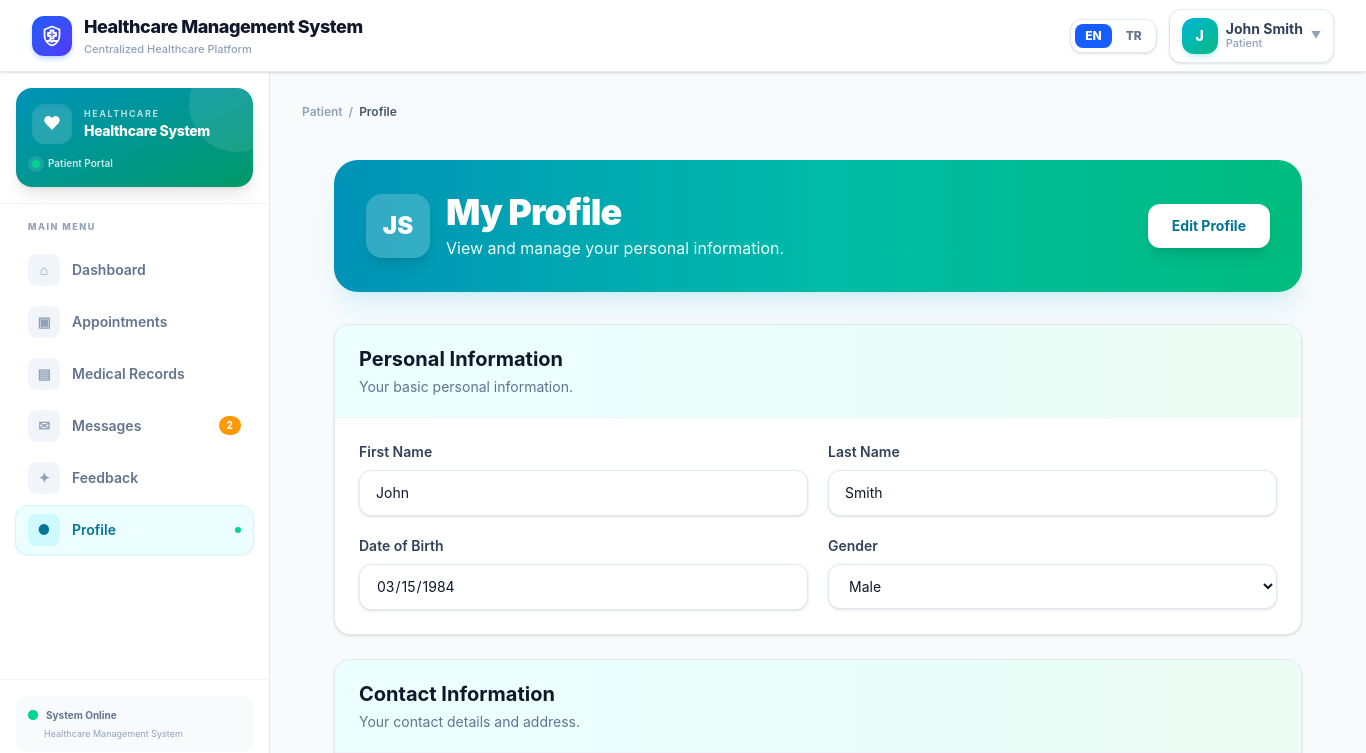
W114 loading, empty, success and error states › shows success feedback after saving
The width and height of the screenshot is (1366, 753).
Click the button "Edit Profile" at (1209,226), box [1148,204,1270,248]
(page scrolled)
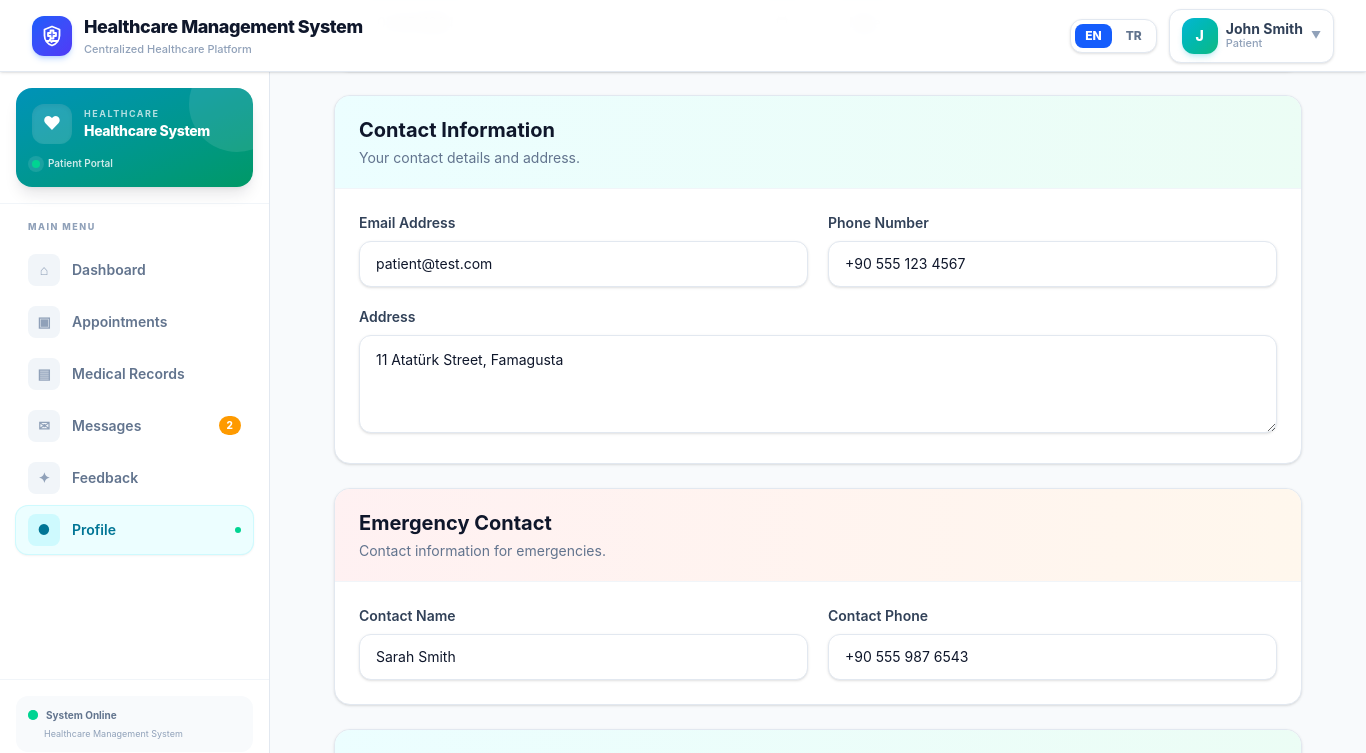
Replace the text in the text box labelled "Address" with "5 Harbour Road, Kyrenia" at (818,384), box [359,335,1277,433]
(page scrolled)
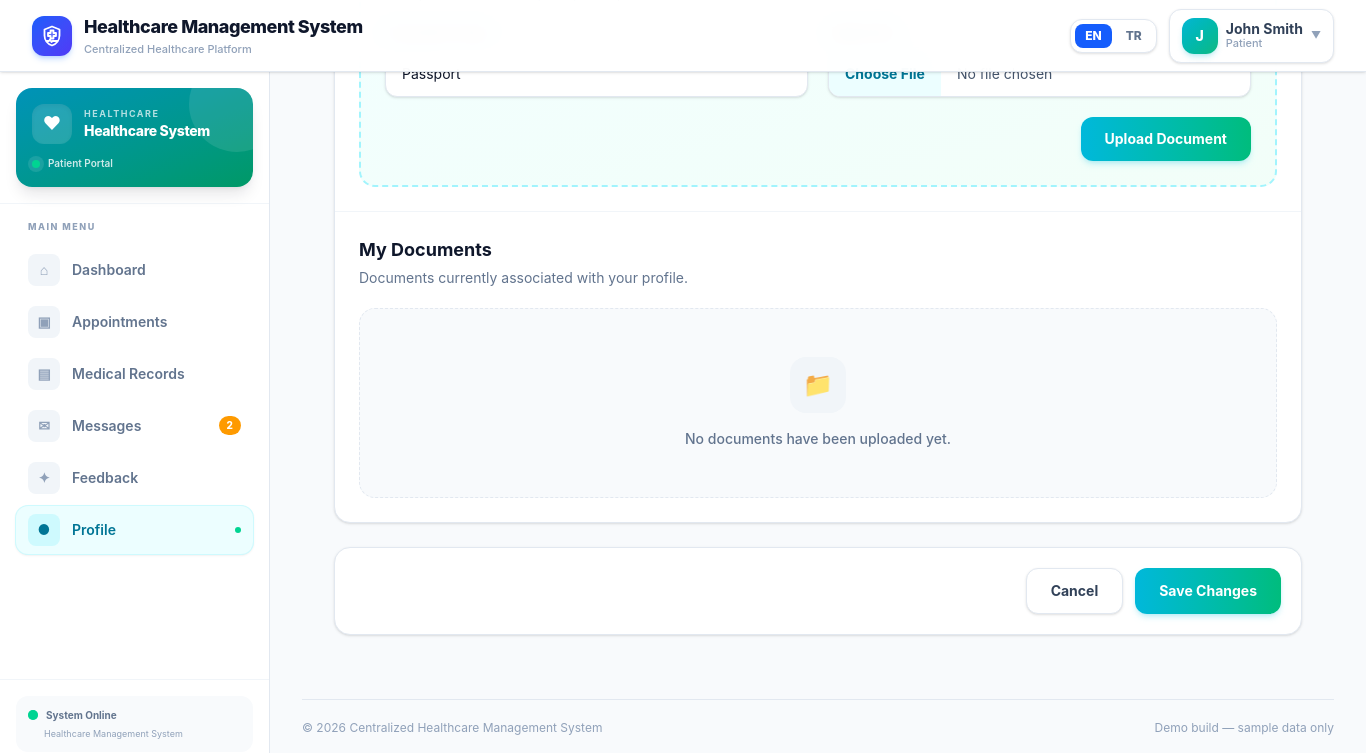
Click the button "Save Changes" at (1208,591), box [1135,568,1281,614]
(page scrolled)
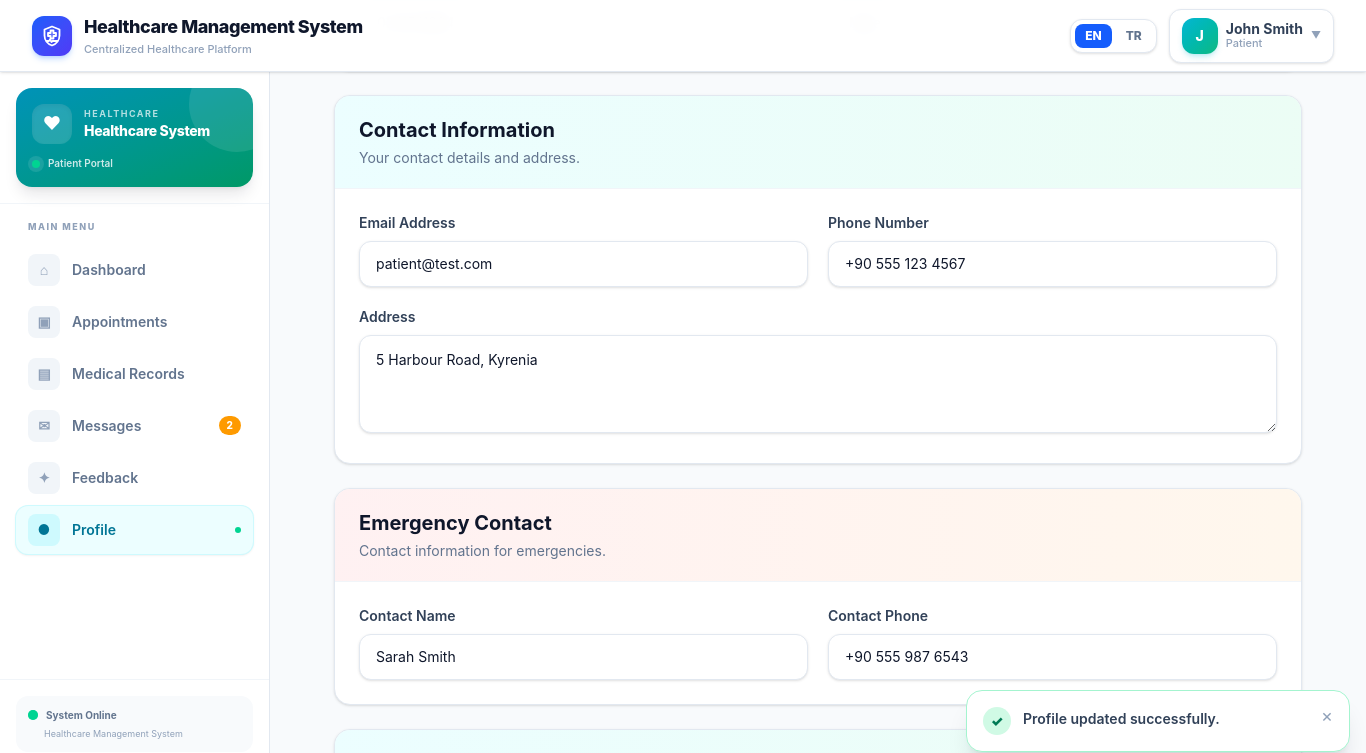
expect the text "Profile updated successfully." is shown: met, box [1023,710,1220,727]
